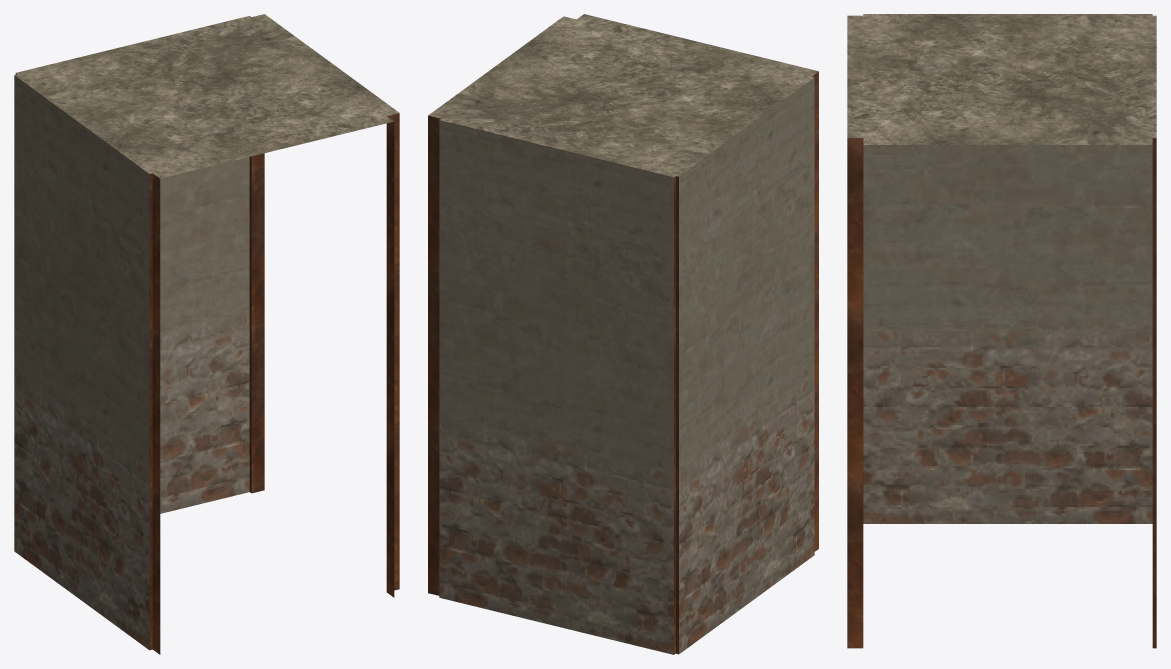
Rendered from 2x2_Corner_Hallway.fbx.
The picture shows the model from 3 angles, left to right: view 1: azimuth 30°, elevation 25°; view 2: azimuth 150°, elevation 25°; view 3: azimuth 270°, elevation 25°; orthographic projection. The views are drawn at different scales.
Visible parts, largest first — view 1: 2x2CornerHallwayBaked; view 2: 2x2CornerHallwayBaked; view 3: 2x2CornerHallwayBaked.
Part boxes in pixels (left/top/right/bottom): 2x2CornerHallwayBaked: left=14, top=14, right=399, bottom=654; 2x2CornerHallwayBaked: left=428, top=14, right=818, bottom=654; 2x2CornerHallwayBaked: left=847, top=14, right=1156, bottom=648.
Bounding box in the file's own units: 192 × 350 × 193.
